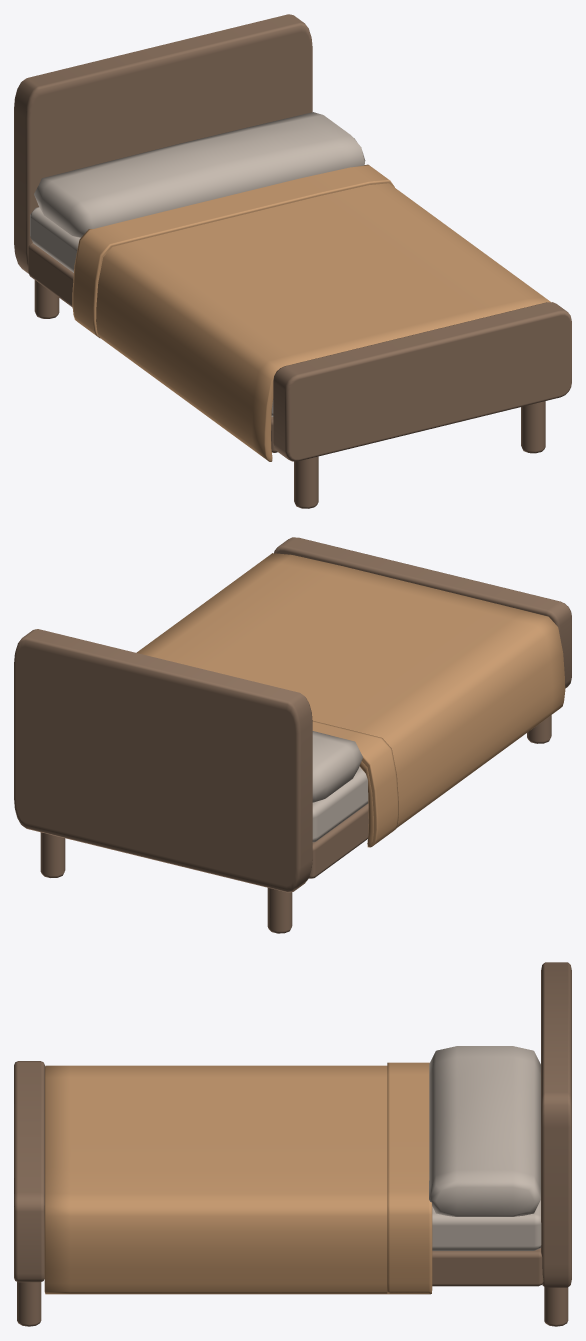
3 renders of one model, top to bottom at view 1: azimuth 30°, elevation 25°; view 2: azimuth 150°, elevation 25°; view 3: azimuth 270°, elevation 25°, orthographic.
Parts seen in each view (by area): view 1: blanket, Rectangle (×2), pillow, Subdiv 2, Cylinder (×2), basebed 2, basebed, Cylinder 2; view 2: Rectangle (×2), blanket, Subdiv 2, pillow, basebed 2, basebed, Cylinder, Cylinder 2; view 3: blanket, pillow, Rectangle (×2), Subdiv 2, basebed, basebed 2, Cylinder 2 (×2).
Part boxes in pixels (left/top/right/bottom): blanket: left=96, top=183, right=550, bottom=461; Rectangle (×2): left=14, top=14, right=571, bottom=461; pillow: left=34, top=112, right=365, bottom=237; Subdiv 2: left=72, top=164, right=394, bottom=337; Cylinder (×2): left=34, top=280, right=318, bottom=508; basebed 2: left=30, top=207, right=273, bottom=416; basebed: left=28, top=242, right=277, bottom=452; Cylinder 2: left=521, top=401, right=545, bottom=453; Rectangle (×2): left=14, top=537, right=571, bottom=892; blanket: left=136, top=553, right=565, bottom=847; Subdiv 2: left=312, top=721, right=398, bottom=846; pillow: left=312, top=731, right=362, bottom=802; basebed 2: left=312, top=766, right=368, bottom=842; basebed: left=309, top=804, right=368, bottom=878; Cylinder: left=267, top=888, right=292, bottom=933; Cylinder 2: left=40, top=832, right=65, bottom=877; blanket: left=44, top=1065, right=432, bottom=1294; pillow: left=429, top=1046, right=540, bottom=1216; Rectangle (×2): left=14, top=962, right=571, bottom=1287; Subdiv 2: left=387, top=1062, right=431, bottom=1293; basebed: left=432, top=1248, right=543, bottom=1286; basebed 2: left=432, top=1200, right=541, bottom=1250; Cylinder 2 (×2): left=17, top=1282, right=568, bottom=1326.
Size of the model in its own units: 0.9825 by 0.7278 by 1.53.
